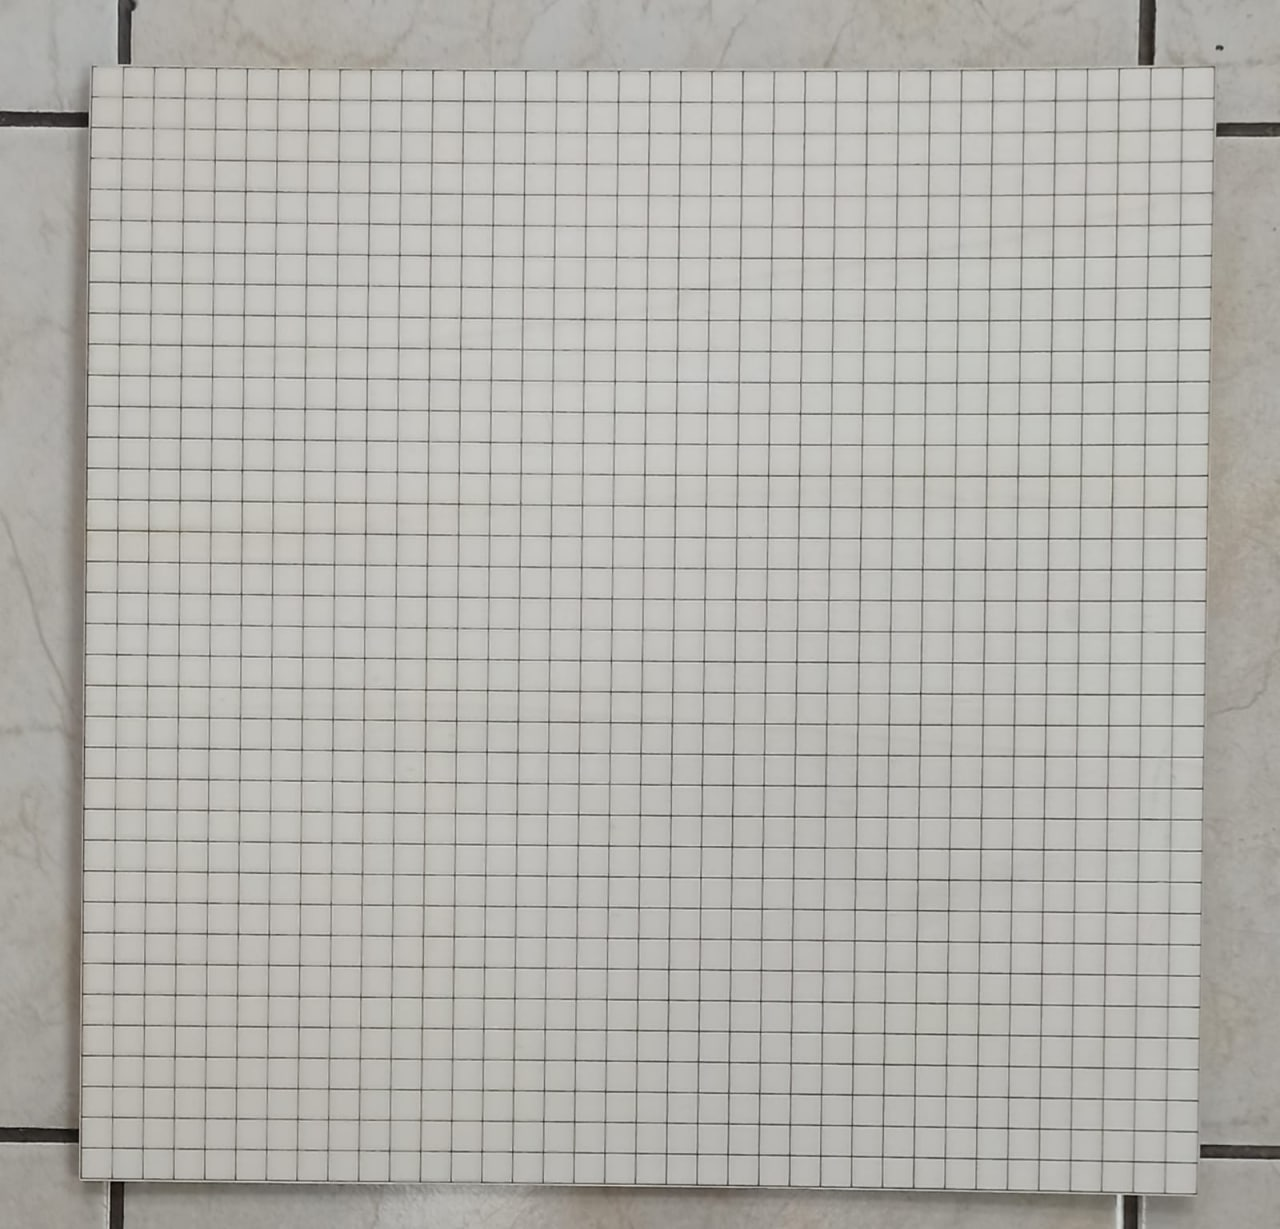grid: (65, 56, 1225, 1211)
